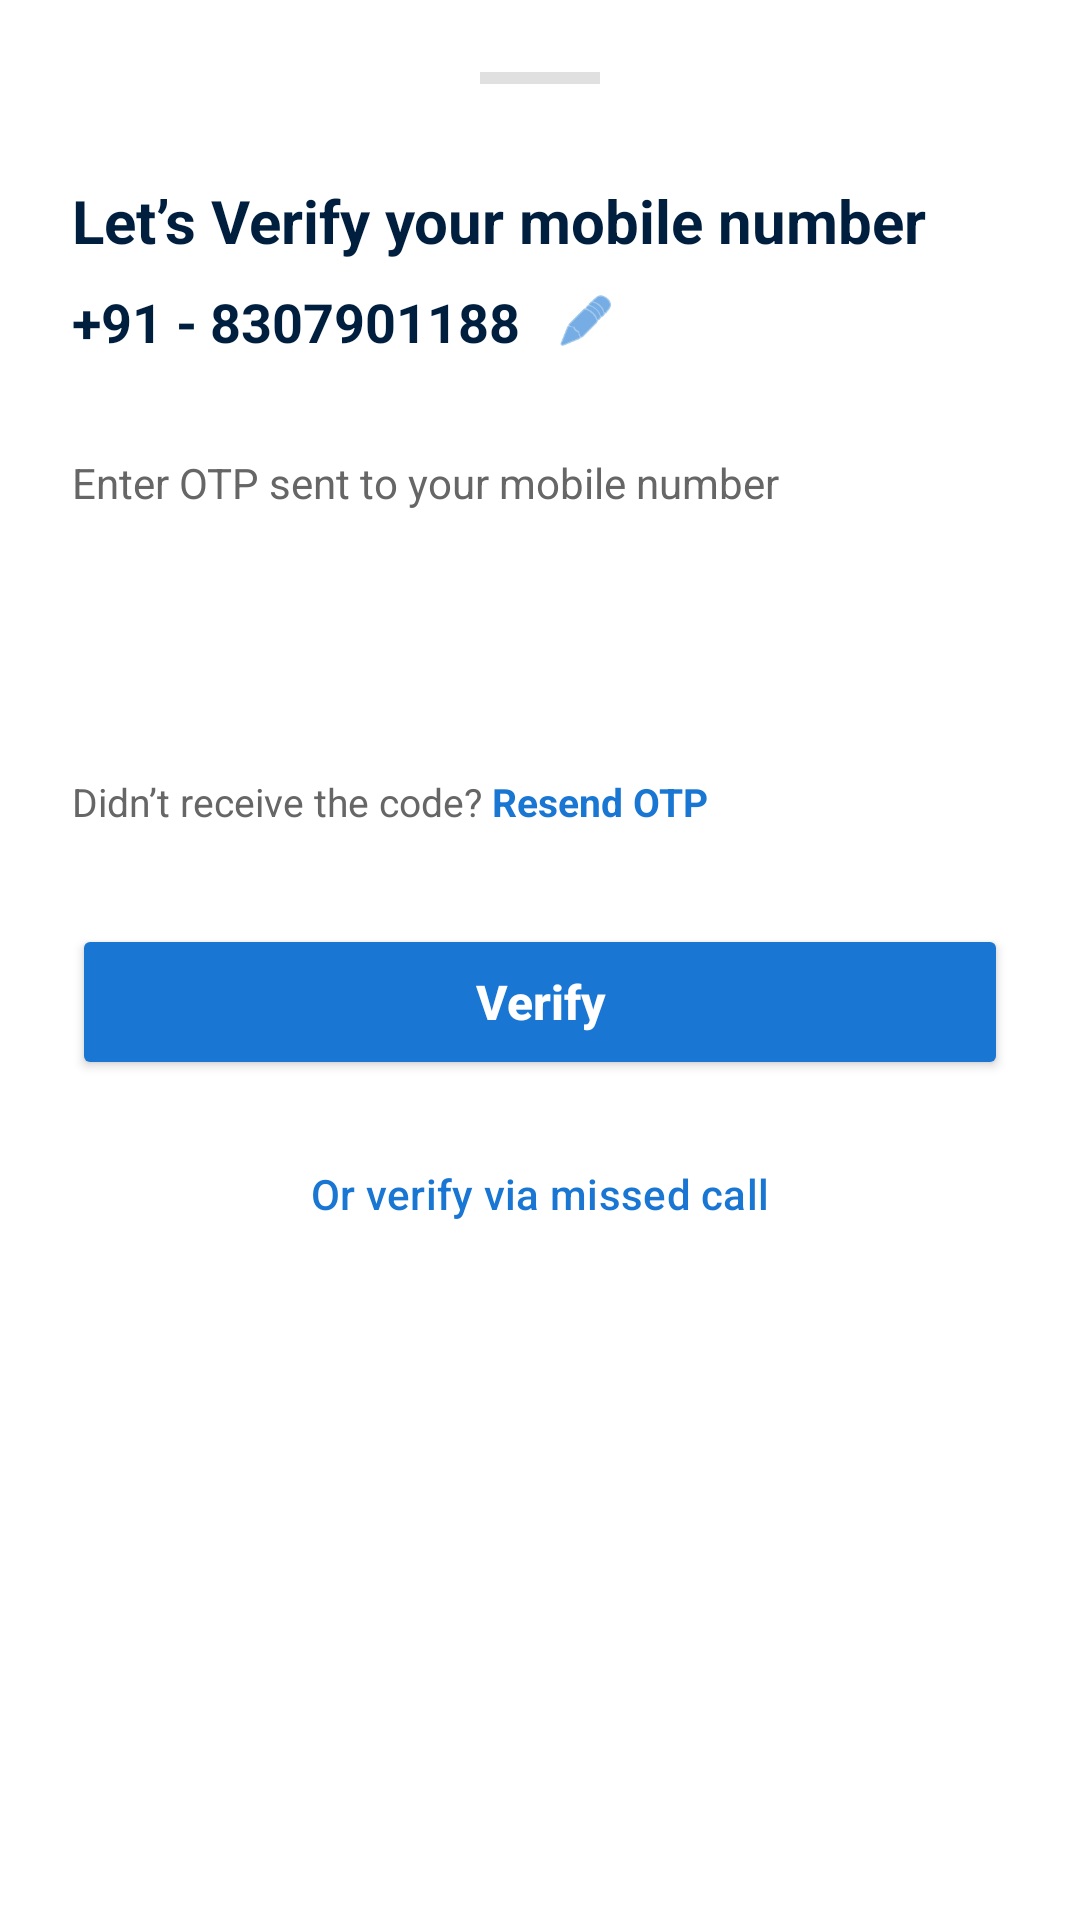

Where icons sit on this 1080 × 1920 app screen, as (left=x1, top=y1, right=x2, bottom=y2):
edit: (left=560, top=295, right=611, bottom=346)
